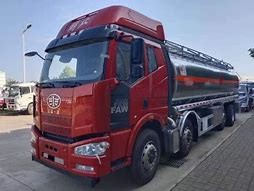oil truck: (25, 7, 239, 181)
